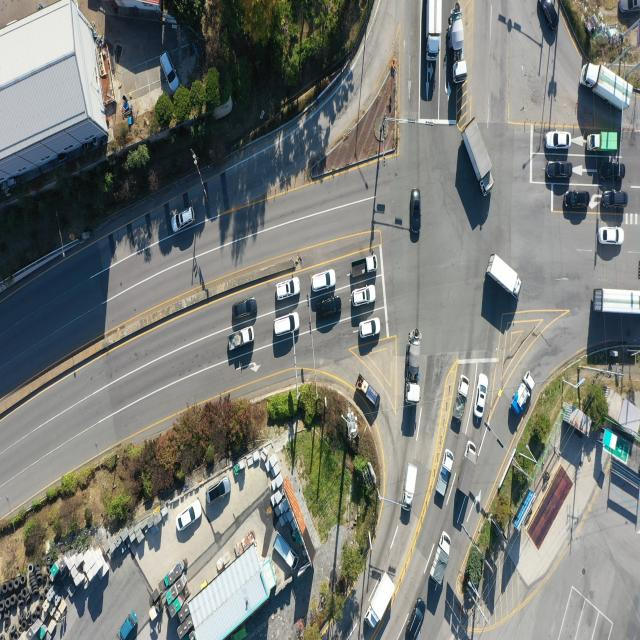car: (158, 49, 181, 90), (175, 501, 201, 533), (536, 0, 559, 35), (406, 597, 424, 640), (473, 372, 489, 418), (207, 477, 231, 506), (172, 206, 196, 234), (273, 313, 300, 337), (232, 298, 259, 322), (410, 188, 422, 242), (276, 276, 300, 301), (310, 271, 335, 293), (320, 296, 344, 318), (547, 160, 574, 179), (350, 286, 374, 306), (599, 163, 625, 181), (358, 317, 380, 338), (566, 189, 590, 208), (547, 132, 572, 150), (600, 228, 624, 246), (606, 192, 630, 210), (619, 0, 640, 14)
medium_truck: (583, 58, 633, 110), (462, 117, 495, 194), (487, 254, 522, 300), (366, 570, 393, 628), (448, 8, 466, 84), (595, 288, 640, 315), (408, 332, 423, 406), (426, 0, 443, 58)
small_truck: (456, 442, 478, 499), (429, 530, 451, 586), (510, 372, 535, 418), (434, 450, 455, 504), (272, 533, 299, 571), (356, 372, 379, 412), (452, 375, 470, 421), (404, 465, 420, 512), (116, 608, 138, 640), (228, 328, 255, 353), (585, 132, 617, 153), (351, 257, 378, 278)
